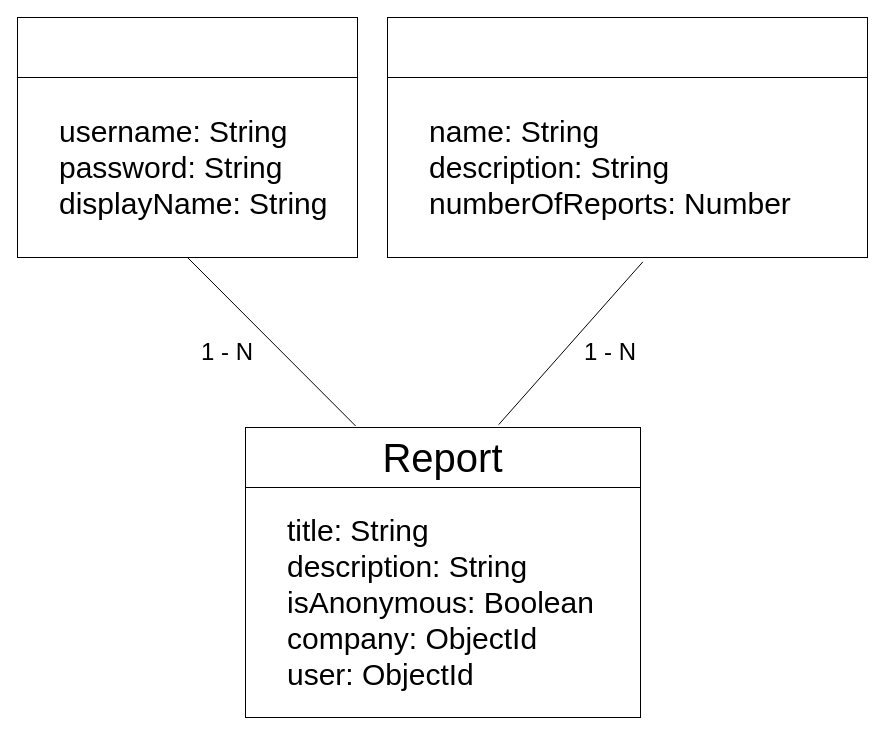
This 885x735 diagram has some shape labels left out. The shapes that lost their labels are listed below. From the top down, each one's centre as x and y in pixels, then its label:
At [187,47]: "User".
At [627,47]: "Company".
